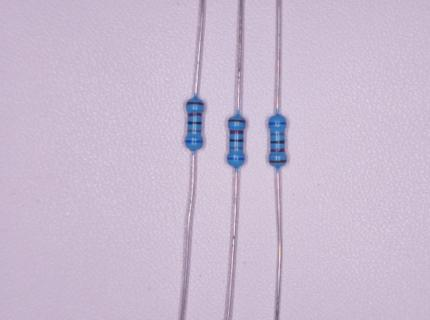Black band: (271, 141, 285, 144), (188, 122, 201, 125), (230, 139, 243, 142)
Blue band: (186, 140, 203, 143), (269, 123, 286, 125), (228, 158, 244, 160)
Brown band: (186, 102, 204, 105), (229, 120, 246, 123), (270, 160, 287, 163)
Grey band: (188, 130, 201, 132), (271, 133, 284, 135), (230, 147, 242, 149)
Red band: (271, 148, 285, 152), (188, 113, 201, 117), (230, 130, 243, 134)
